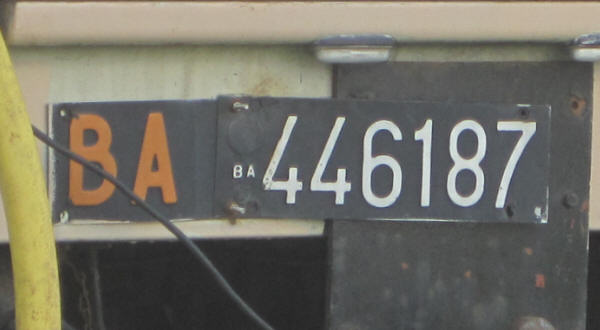license_plate: (48, 98, 551, 225)
